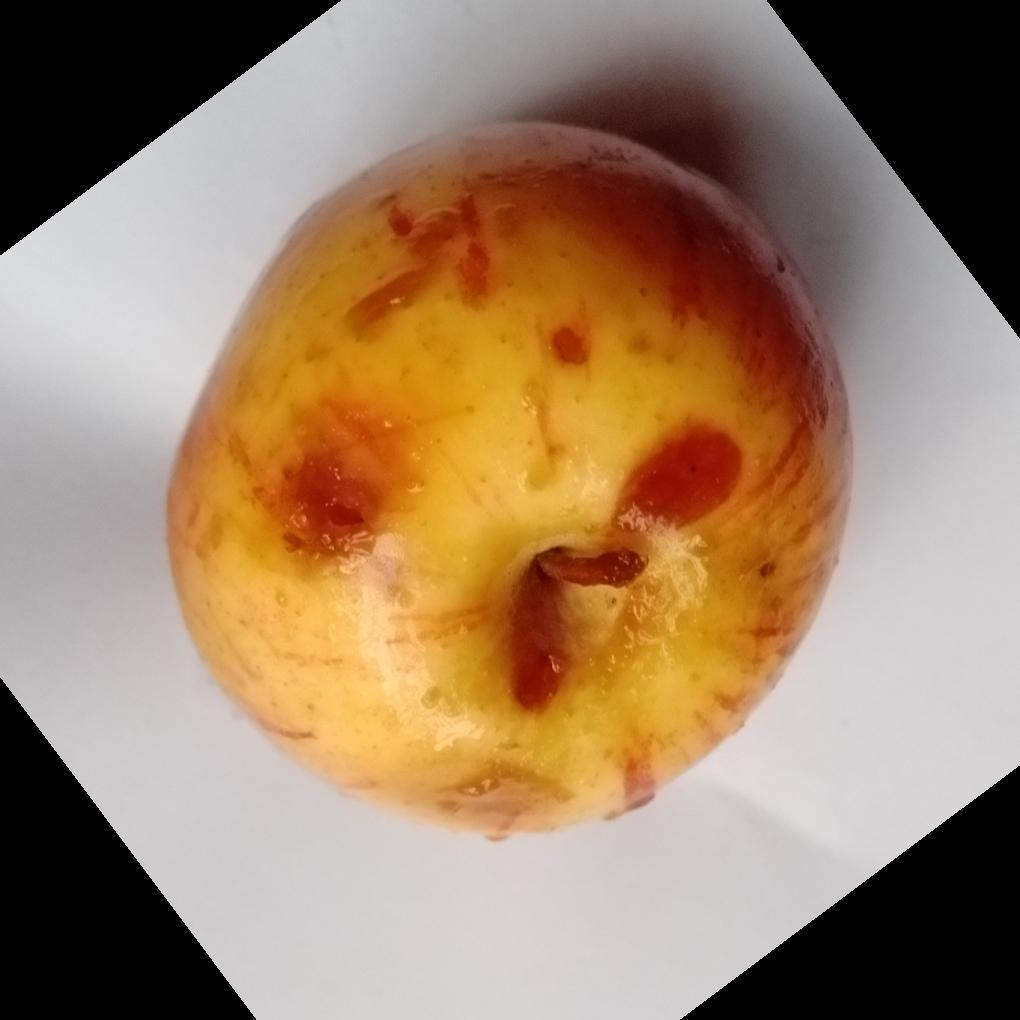FreshOrange: (161, 121, 854, 845)
